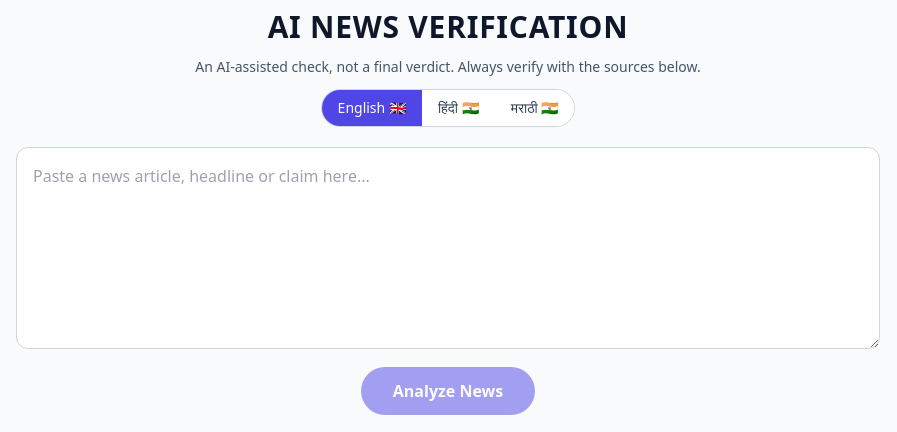
language toggle localises the UI
Expected: the button "Analyze News" is shown, [361, 367, 535, 415]
Click the button "हिंदी 🇮🇳". click: (458, 108)
box: [422, 90, 495, 126]
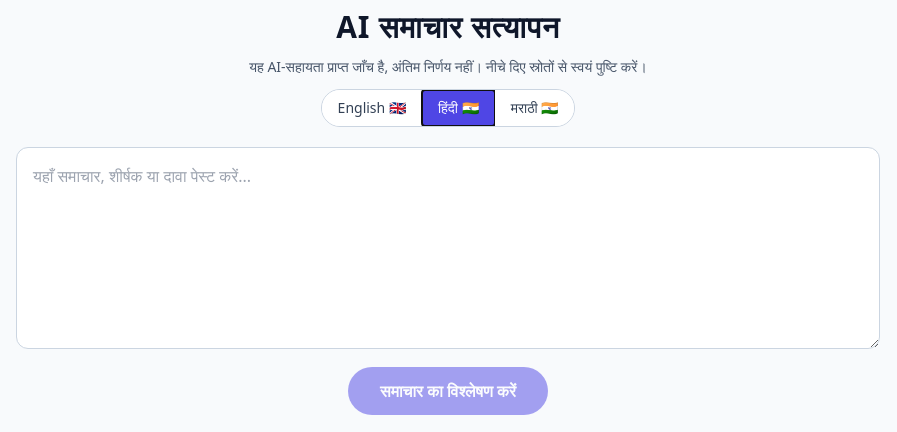
Expected: the button "समाचार का विश्लेषण करें" is shown, [348, 367, 548, 415]
